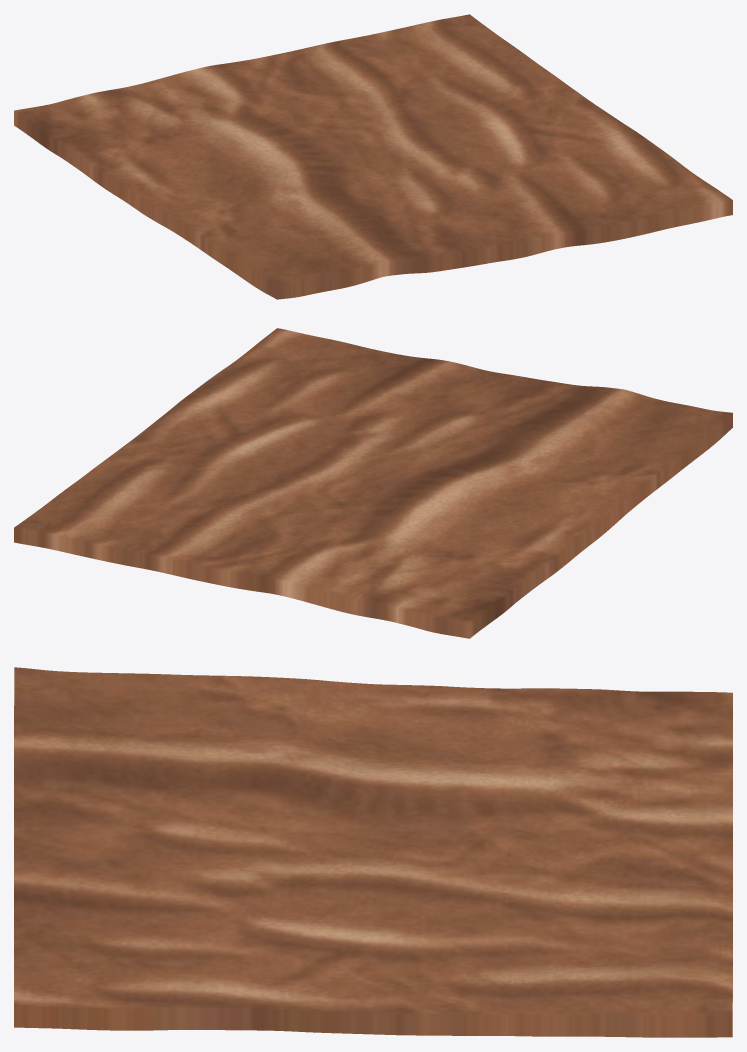
3 renders of one model, top to bottom at view 1: azimuth 30°, elevation 25°; view 2: azimuth 150°, elevation 25°; view 3: azimuth 270°, elevation 25°, orthographic. The views are drawn at different scales.
Parts seen in each view (by area): view 1: L8_91_104; view 2: L8_91_104; view 3: L8_91_104.
Boxes of the visible parts, bbox=[...] form: L8_91_104: bbox=[14, 14, 732, 299]; L8_91_104: bbox=[14, 328, 732, 638]; L8_91_104: bbox=[14, 667, 732, 1037].
Bounding box in the file's own units: 56.29 × 5.75 × 56.29.
1 material, 1 textured.
